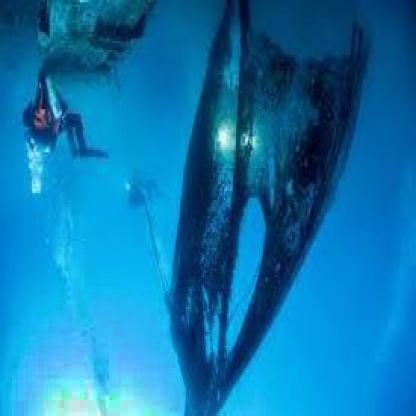net: (174, 7, 362, 416)
